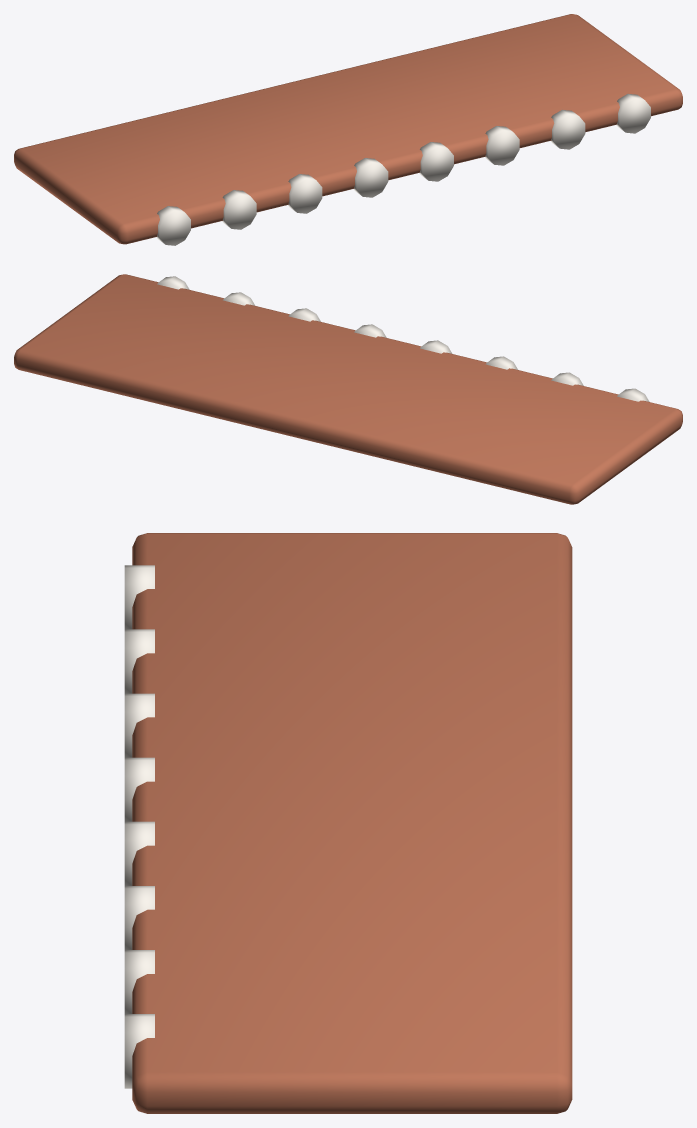
The model's file is vintage_blanket_01.glb.
The picture shows the model from 3 angles, top to bottom: view 1: azimuth 30°, elevation 25°; view 2: azimuth 150°, elevation 25°; view 3: azimuth 270°, elevation 25°; orthographic projection. The views are drawn at different scales.
Parts seen in each view (by area): view 1: vintage_blanket_01; view 2: vintage_blanket_01; view 3: vintage_blanket_01.
Part boxes in pixels (bbox=[...]): vintage_blanket_01: bbox=[14, 14, 682, 245]; vintage_blanket_01: bbox=[14, 274, 682, 504]; vintage_blanket_01: bbox=[124, 533, 572, 1113].
Bounding box in the file's own units: 1.72 × 0.1 × 0.59.
